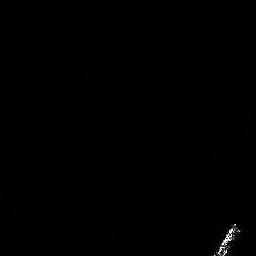ship: (211, 219, 244, 256)
